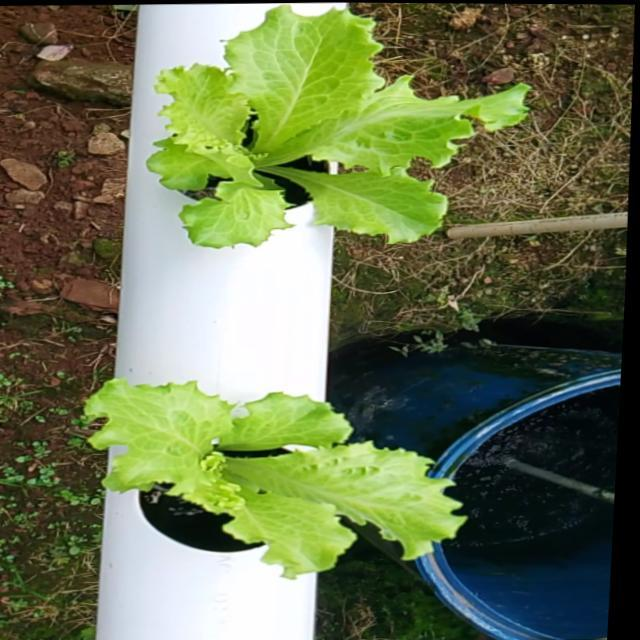Baby: (149, 7, 531, 253), (85, 388, 468, 590)
